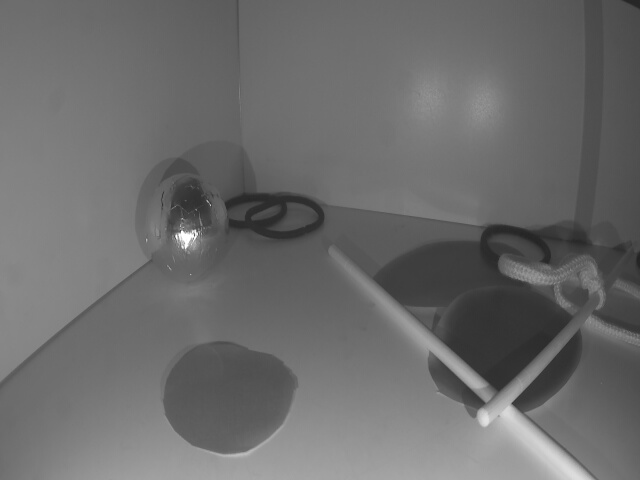Live: (144, 175, 226, 281)
